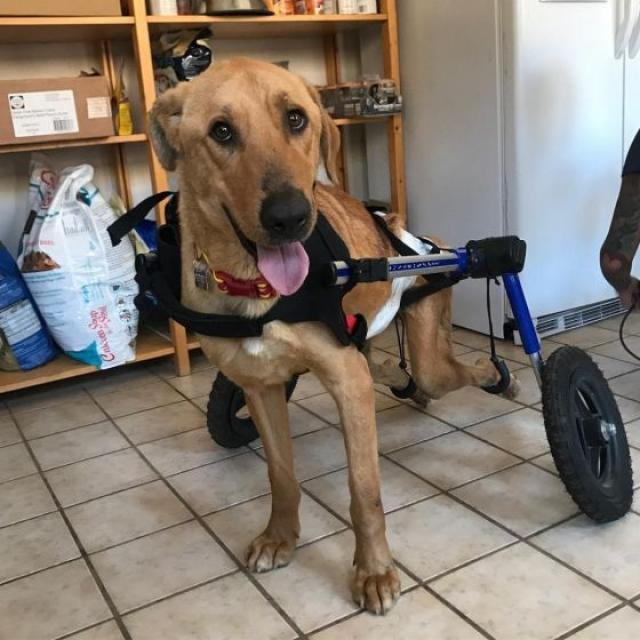labrador_retriever_dog: (136, 45, 348, 312)
